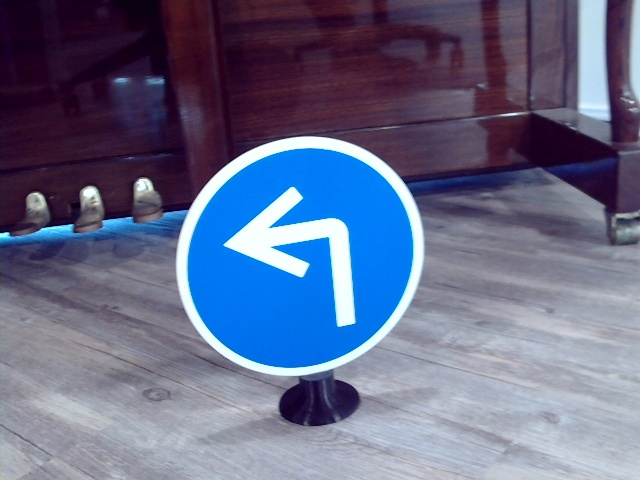turn_left: (218, 189, 373, 322)
